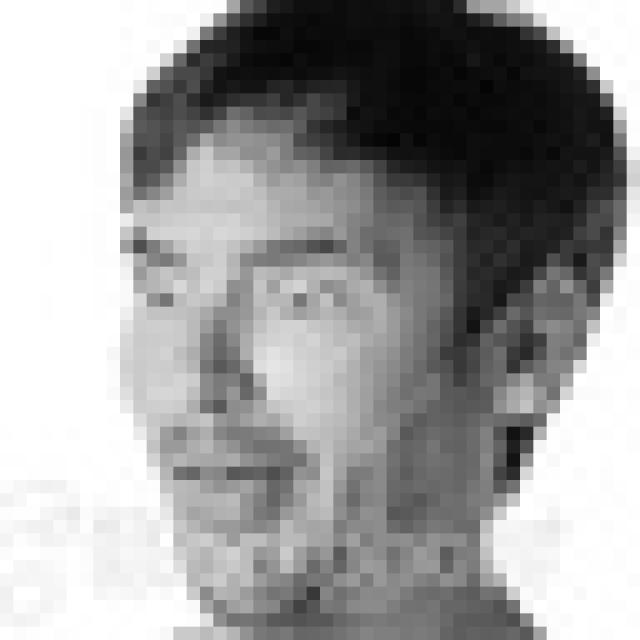disgust: (127, 220, 403, 542)
